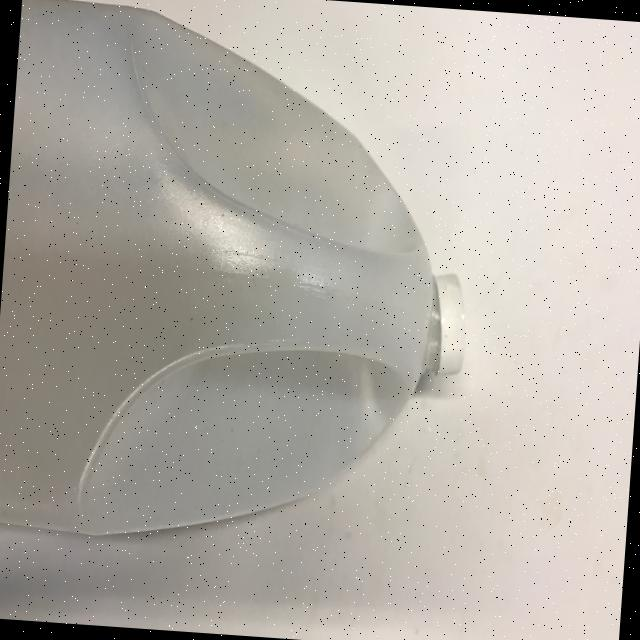plastic: (0, 0, 487, 561)
